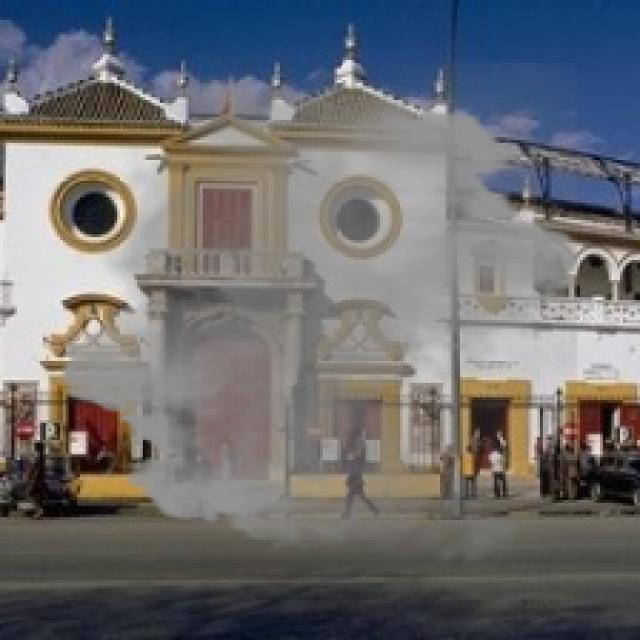smoke: (43, 63, 597, 583)
